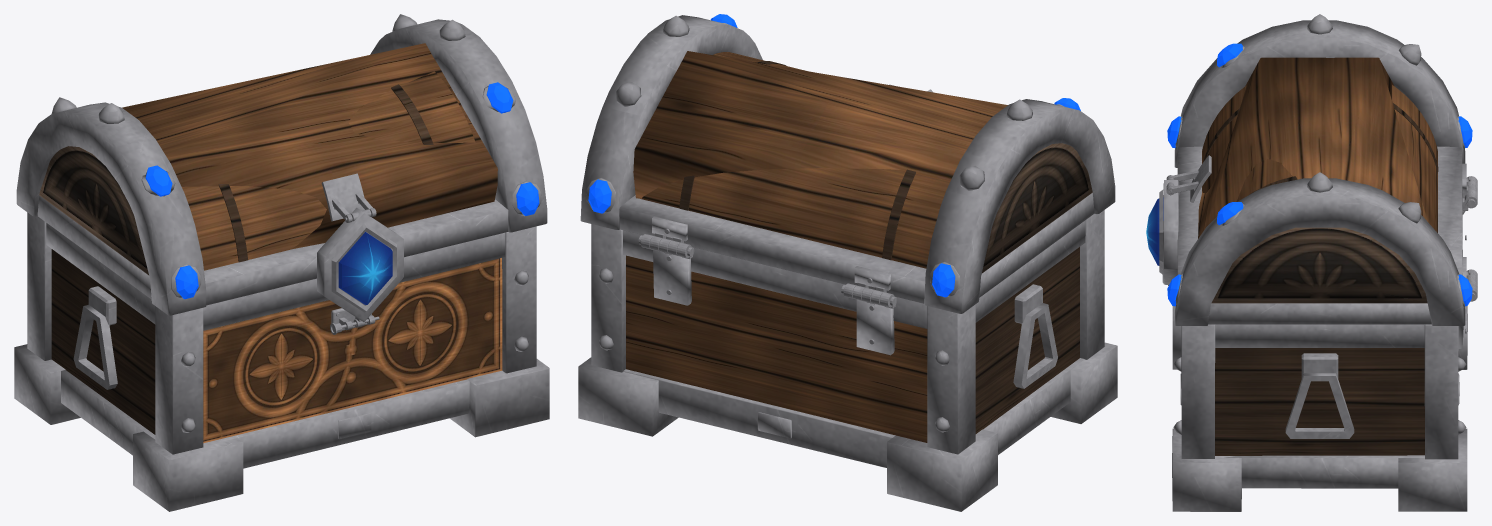
File: 1295_animated_chest.glb
The picture shows the model from 3 angles, left to right: view 1: azimuth 30°, elevation 25°; view 2: azimuth 150°, elevation 25°; view 3: azimuth 270°, elevation 25°; orthographic projection. The views are drawn at different scales.
Visible parts, largest first — view 1: Chest_Lid_Wood, Chest_Base_Frame, Chest_Base_Wood, Chest_Lid_Frame, Chest_Lock, Chest_Handle_L, Latch_Lid_Saddle, Interior_Lid_Rib_L, Interior_Lid_Rib_R; view 2: Chest_Lid_Wood, Chest_Base_Frame, Chest_Base_Wood, Chest_Lid_Frame, Chest_Hinges, Chest_Handle_L, Chest_Hinge_Leaves_Lid, Interior_Lid_Rib_L; view 3: Chest_Lid_Frame, Chest_Lid_Wood, Chest_Base_Frame, Chest_Base_Wood, Chest_Handle_R, Chest_Lock, Interior_Lid_Rib_L, Latch_Lid_Saddle.
Boxes of the visible parts, x1=… form: Chest_Lid_Wood: x1=39, y1=43, x2=497, y2=275; Chest_Base_Frame: x1=14, y1=212, x2=549, y2=511; Chest_Base_Wood: x1=51, y1=249, x2=502, y2=443; Chest_Lid_Frame: x1=16, y1=14, x2=547, y2=315; Chest_Lock: x1=317, y1=207, x2=403, y2=321; Chest_Handle_L: x1=73, y1=286, x2=117, y2=389; Latch_Lid_Saddle: x1=321, y1=173, x2=364, y2=221; Interior_Lid_Rib_L: x1=218, y1=184, x2=247, y2=262; Interior_Lid_Rib_R: x1=391, y1=84, x2=433, y2=144; Chest_Lid_Wood: x1=633, y1=51, x2=1092, y2=273; Chest_Base_Frame: x1=578, y1=210, x2=1117, y2=511; Chest_Base_Wood: x1=626, y1=247, x2=1079, y2=442; Chest_Lid_Frame: x1=580, y1=14, x2=1115, y2=313; Chest_Hinges: x1=653, y1=250, x2=894, y2=355; Chest_Handle_L: x1=1013, y1=284, x2=1057, y2=388; Chest_Hinge_Leaves_Lid: x1=652, y1=216, x2=890, y2=290; Interior_Lid_Rib_L: x1=882, y1=169, x2=915, y2=260; Chest_Lid_Frame: x1=1167, y1=14, x2=1472, y2=325; Chest_Lid_Wood: x1=1198, y1=57, x2=1437, y2=303; Chest_Base_Frame: x1=1172, y1=211, x2=1467, y2=511; Chest_Base_Wood: x1=1215, y1=348, x2=1424, y2=455; Chest_Handle_R: x1=1285, y1=353, x2=1354, y2=438; Chest_Lock: x1=1146, y1=179, x2=1179, y2=284; Interior_Lid_Rib_L: x1=1203, y1=103, x2=1438, y2=173; Latch_Lid_Saddle: x1=1190, y1=155, x2=1211, y2=202.
Bounding box in the file's own units: 1.02 × 0.8935 × 0.811.
7 materials, 6 textured.
